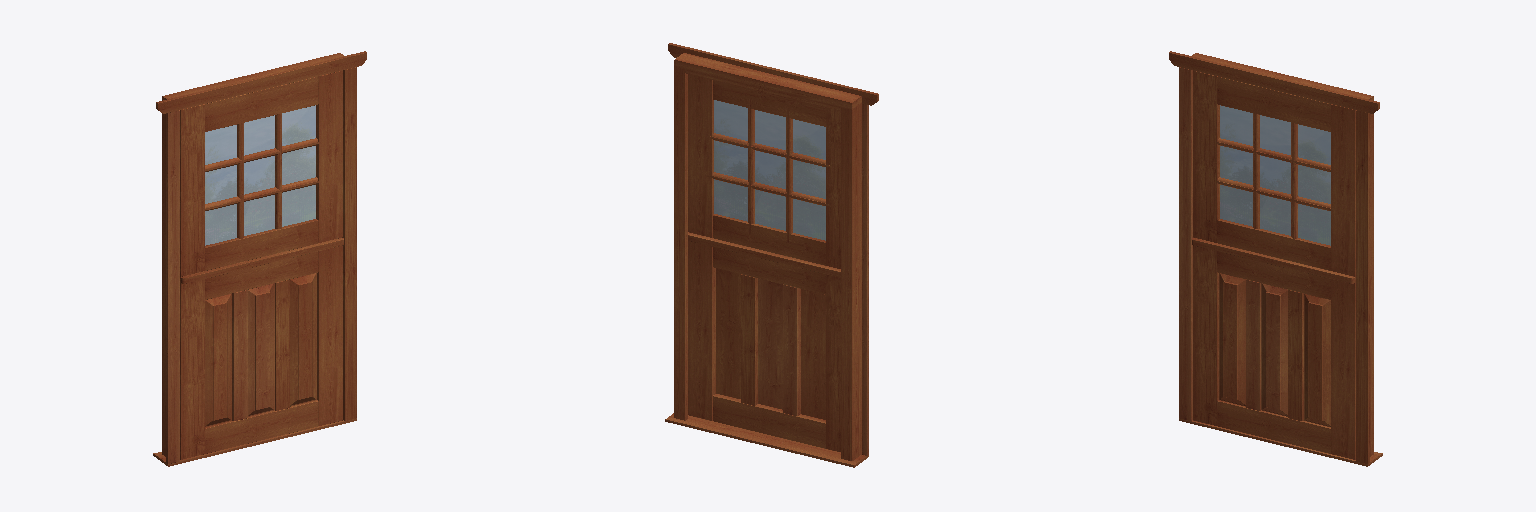
3 views of the same model, side by side, from view 1: azimuth 30°, elevation 25°; view 2: azimuth 150°, elevation 25°; view 3: azimuth 330°, elevation 25° (orthographic).
Visible parts, largest first — view 1: glass, trim_left, trim_right, door_right, door_left, door_right001, door_left001, panel_extruded002, panel_extruded003, panel_extruded001, door_top, door_bottom (+13 smaller); view 2: glass, box_left, door_right, door_right001, panel_extruded002, panel_extruded003, panel_extruded001, door_bottom, box_top, box_right, door_middle, door_left (+16 smaller); view 3: glass, trim_right, trim_left, door_left, door_right, door_left001, door_right001, panel_extruded001, panel_extruded002, panel_extruded003, door_top, door_bottom (+13 smaller).
Part boxes in pixels (x1,y1,x2,y2): glass: (205,105,315,245); trim_left: (166,110,179,463); trim_right: (343,67,356,420); door_right: (317,246,342,425); door_left: (180,279,204,459); door_right001: (316,71,342,242); door_left001: (180,104,204,276); panel_extruded002: (248,283,274,416); panel_extruded003: (290,273,316,406); panel_extruded001: (205,294,231,426); door_top: (205,77,318,131); door_bottom: (205,400,318,453); glass: (714,100,825,240); box_left: (845,103,861,460); door_right: (688,241,715,420); door_right001: (688,74,713,237); panel_extruded002: (758,278,782,409); panel_extruded003: (716,268,740,398); panel_extruded001: (801,289,825,419); door_bottom: (713,394,825,448); box_top: (674,53,861,109); box_right: (674,67,681,419); door_middle: (713,214,825,265); door_left: (826,274,840,451); glass: (1220,105,1330,245); trim_right: (1356,110,1369,463); trim_left: (1179,67,1192,420); door_left: (1193,246,1218,425); door_right: (1331,279,1355,459); door_left001: (1193,71,1219,242); door_right001: (1331,104,1355,276); panel_extruded001: (1219,273,1245,406); panel_extruded002: (1261,283,1287,416); panel_extruded003: (1304,294,1330,426); door_top: (1217,77,1330,131); door_bottom: (1217,400,1330,453).
Size of the model in its own units: 44.75 by 74.71 by 6.02.
Materials: 9 (9 with a texture image).